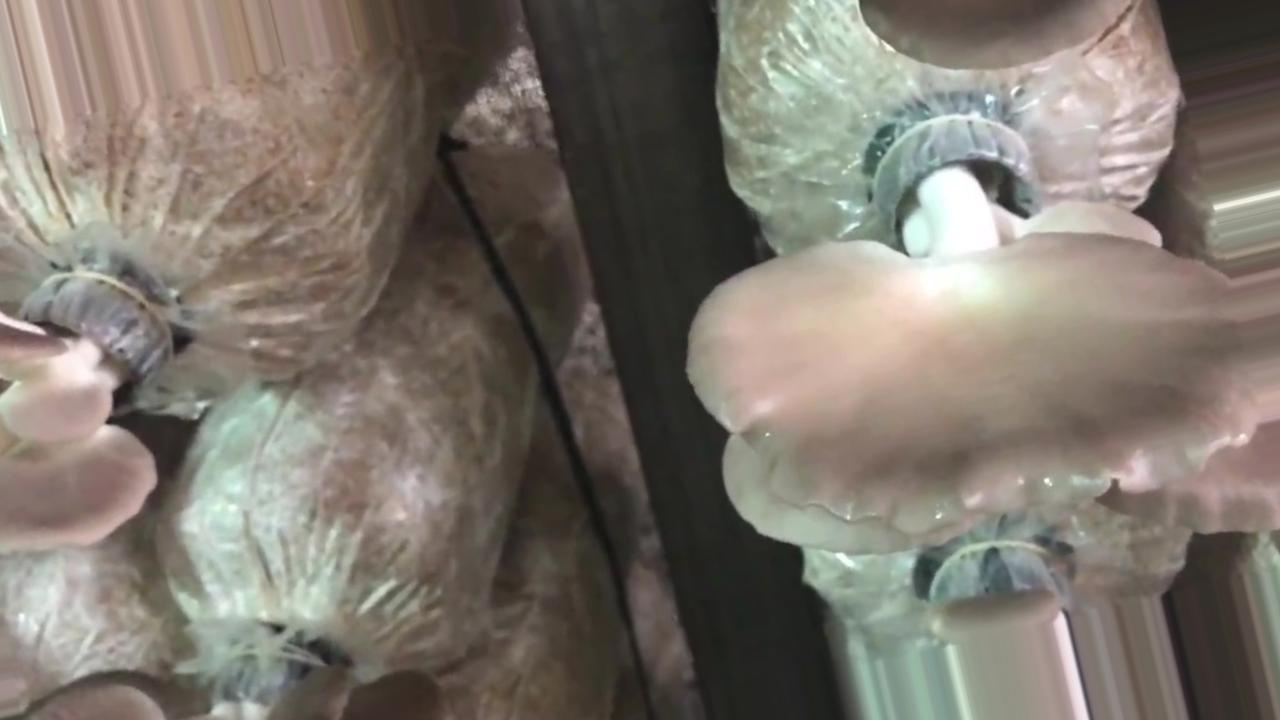nam: (684, 113, 1280, 552), (1, 259, 171, 550), (861, 1, 1120, 73)
